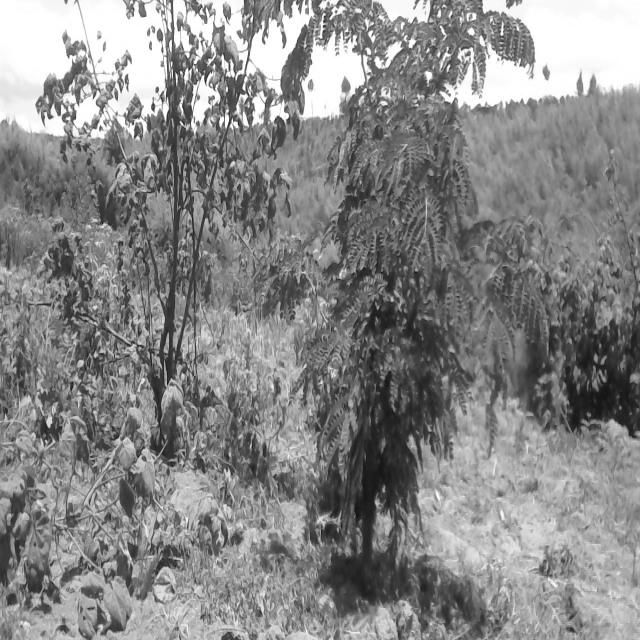Dombeya torrida: (23, 0, 305, 537)
